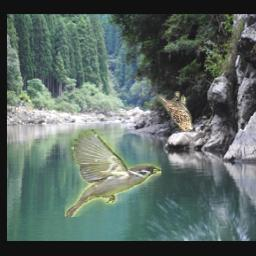Sparrow: (66, 130, 162, 218), (157, 92, 194, 132)
